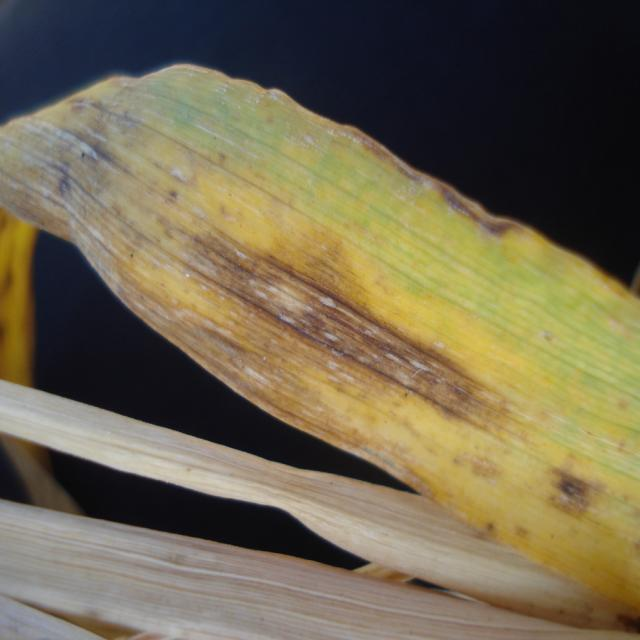wheat-septoria: (163, 188, 535, 464), (0, 87, 141, 259), (343, 127, 530, 248), (549, 463, 597, 514)
